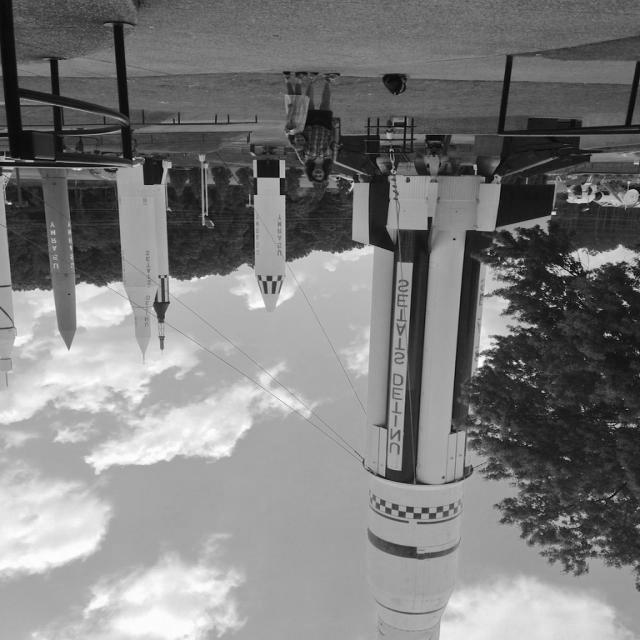missile: (354, 151, 515, 640), (114, 157, 160, 358), (36, 169, 80, 353), (252, 158, 286, 316), (0, 166, 18, 374)
